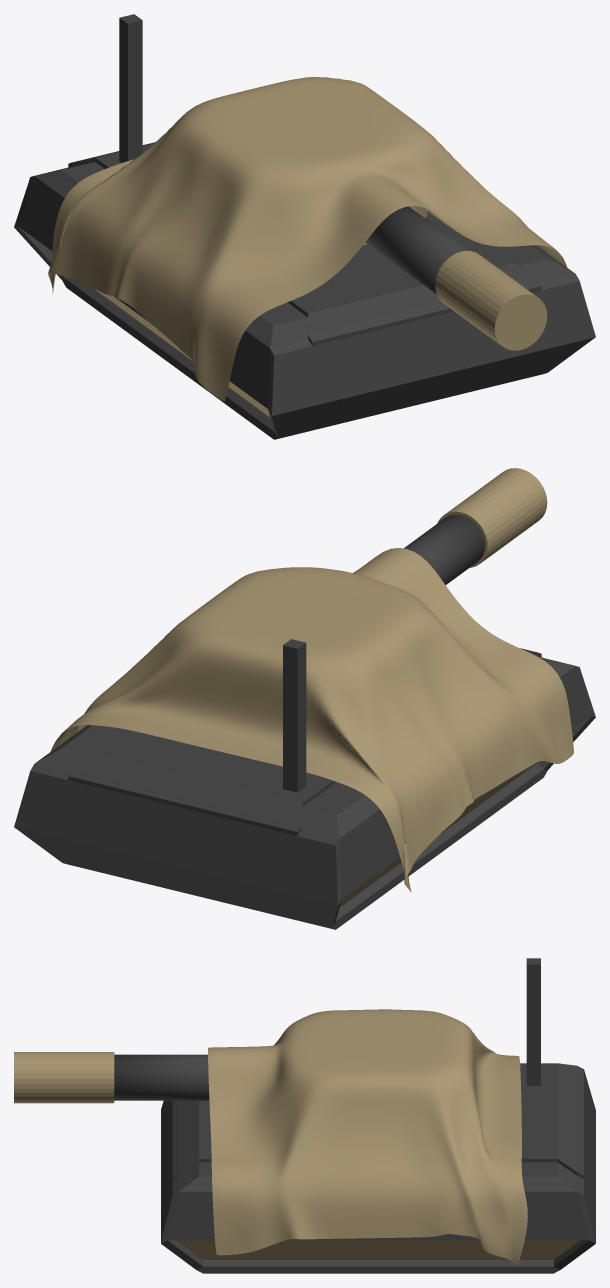
File: Sand_Tank.fbx
The picture shows the model from 3 angles, top to bottom: view 1: azimuth 30°, elevation 25°; view 2: azimuth 150°, elevation 25°; view 3: azimuth 270°, elevation 25°; orthographic projection. The views are drawn at different scales.
Parts seen in each view (by area): view 1: Plane, Body; view 2: Plane, Body; view 3: Plane, Body.
Part boxes in pixels (x1,y1,x2,y2): Plane: (48,14,566,400); Body: (14,142,595,439); Plane: (50,468,573,891); Body: (14,648,595,929); Plane: (14,958,540,1265); Body: (161,1063,595,1273).
Size of the model in its own units: 1.2 by 0.8391 by 1.99.
Materials: 2 (2 with a texture image).
